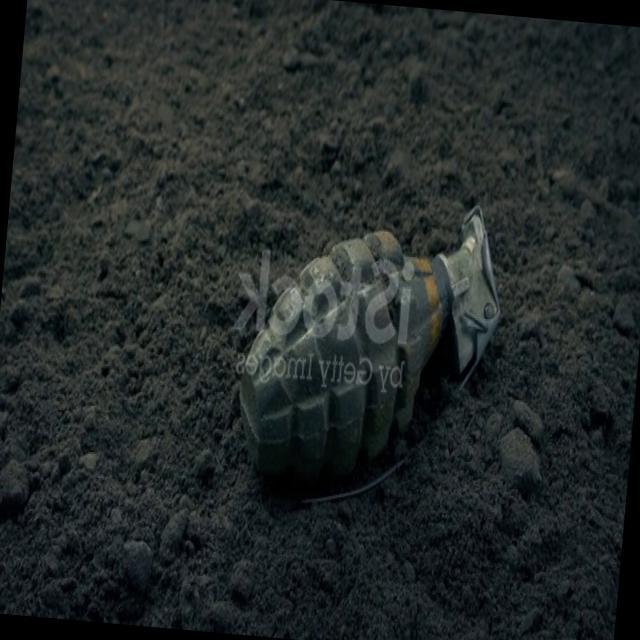grenade: (221, 188, 509, 522)
